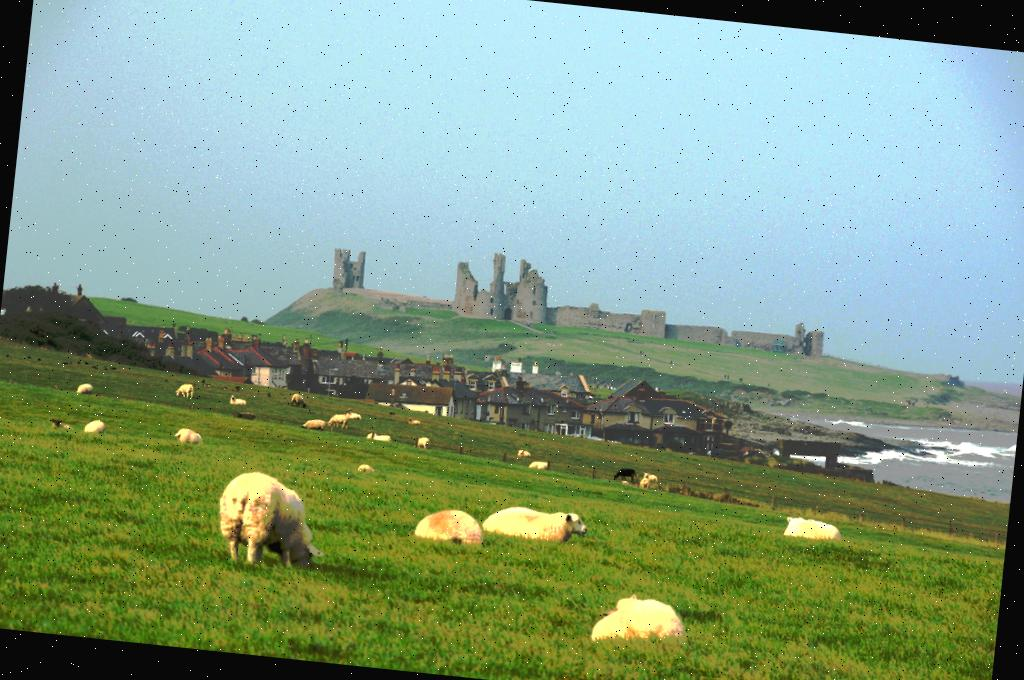Sheep: (213, 468, 329, 573), (588, 588, 688, 652), (486, 502, 588, 544), (414, 508, 486, 552), (782, 512, 840, 546), (173, 427, 204, 446), (610, 464, 638, 484), (47, 413, 75, 431), (326, 410, 350, 430), (176, 380, 193, 400), (288, 392, 308, 409), (300, 416, 324, 430), (366, 430, 391, 443), (513, 446, 536, 460), (227, 394, 250, 408), (415, 433, 430, 451), (76, 382, 94, 396), (344, 408, 364, 420), (640, 472, 658, 483), (407, 415, 423, 427)
